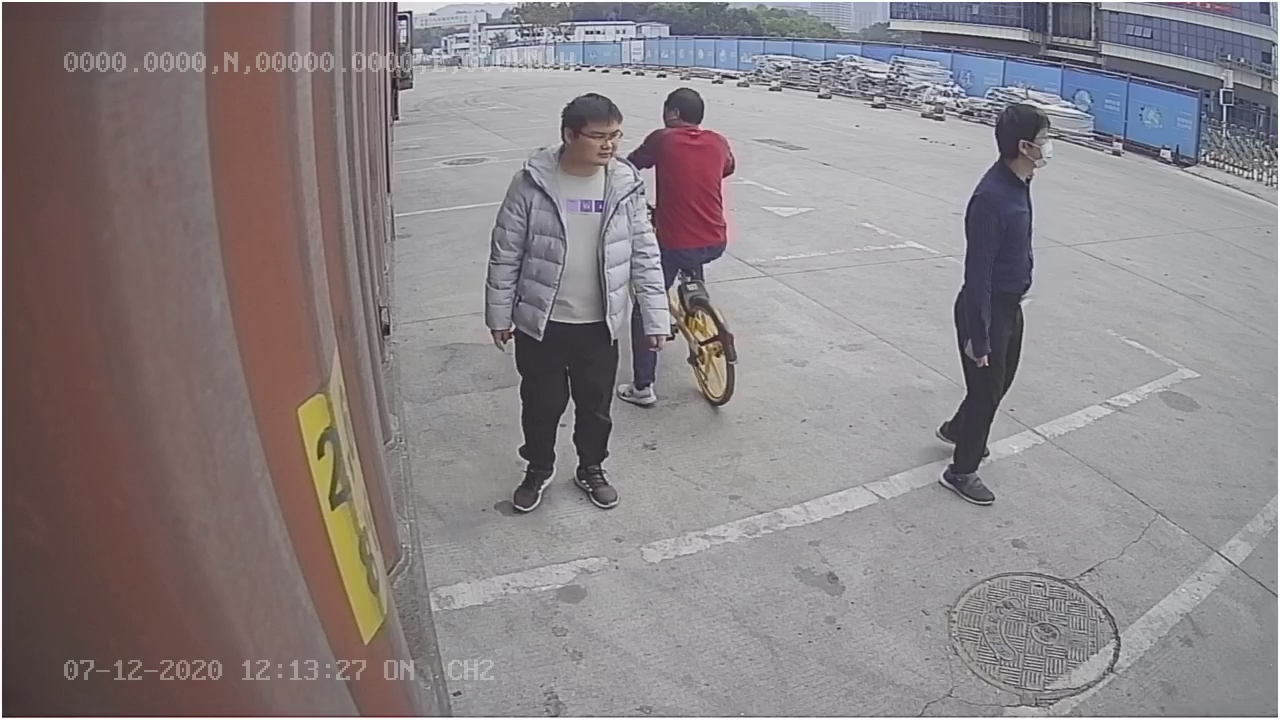person: (932, 95, 1057, 506)
